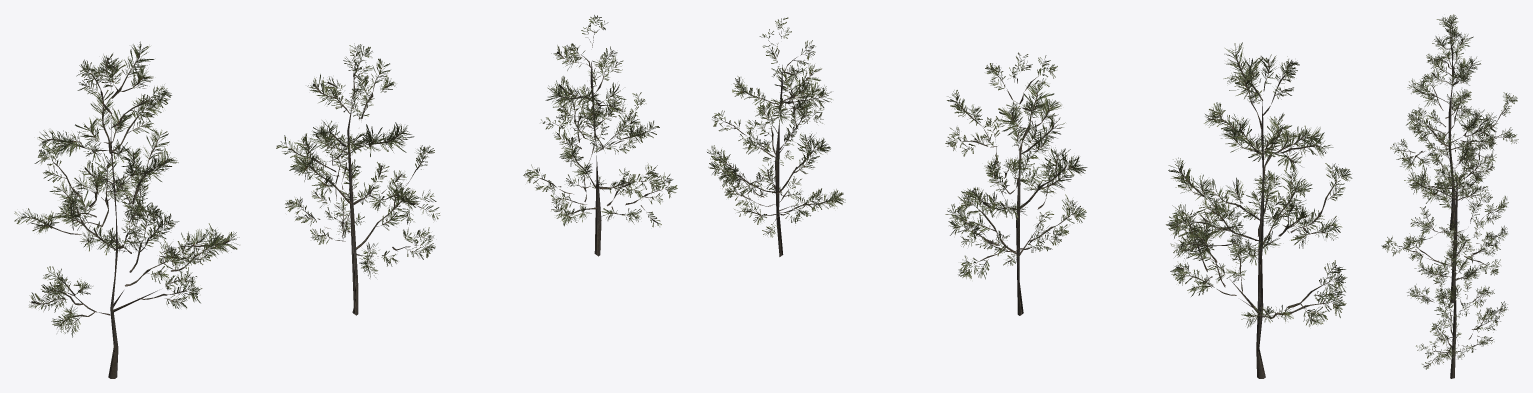
The model's file is pine_sapling_small.glb.
3 renders of one model, left to right at view 1: azimuth 30°, elevation 25°; view 2: azimuth 150°, elevation 25°; view 3: azimuth 270°, elevation 25°, orthographic. The views are drawn at different scales.
Visible parts, largest first — view 1: pine_sapling_small_b; view 2: pine_sapling_small_b; view 3: pine_sapling_small_b.
Boxes of the visible parts, x1,y1,x2,y2 form: pine_sapling_small_b: (14,15,677,378); pine_sapling_small_b: (707,17,1352,378); pine_sapling_small_b: (1381,14,1518,378).
Bounding box in the file's own units: 2.64 × 1.3 × 0.7703.
Materials: 2 (2 with a texture image).
